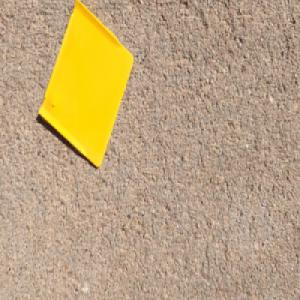PlasticPart: (36, 0, 134, 169)
